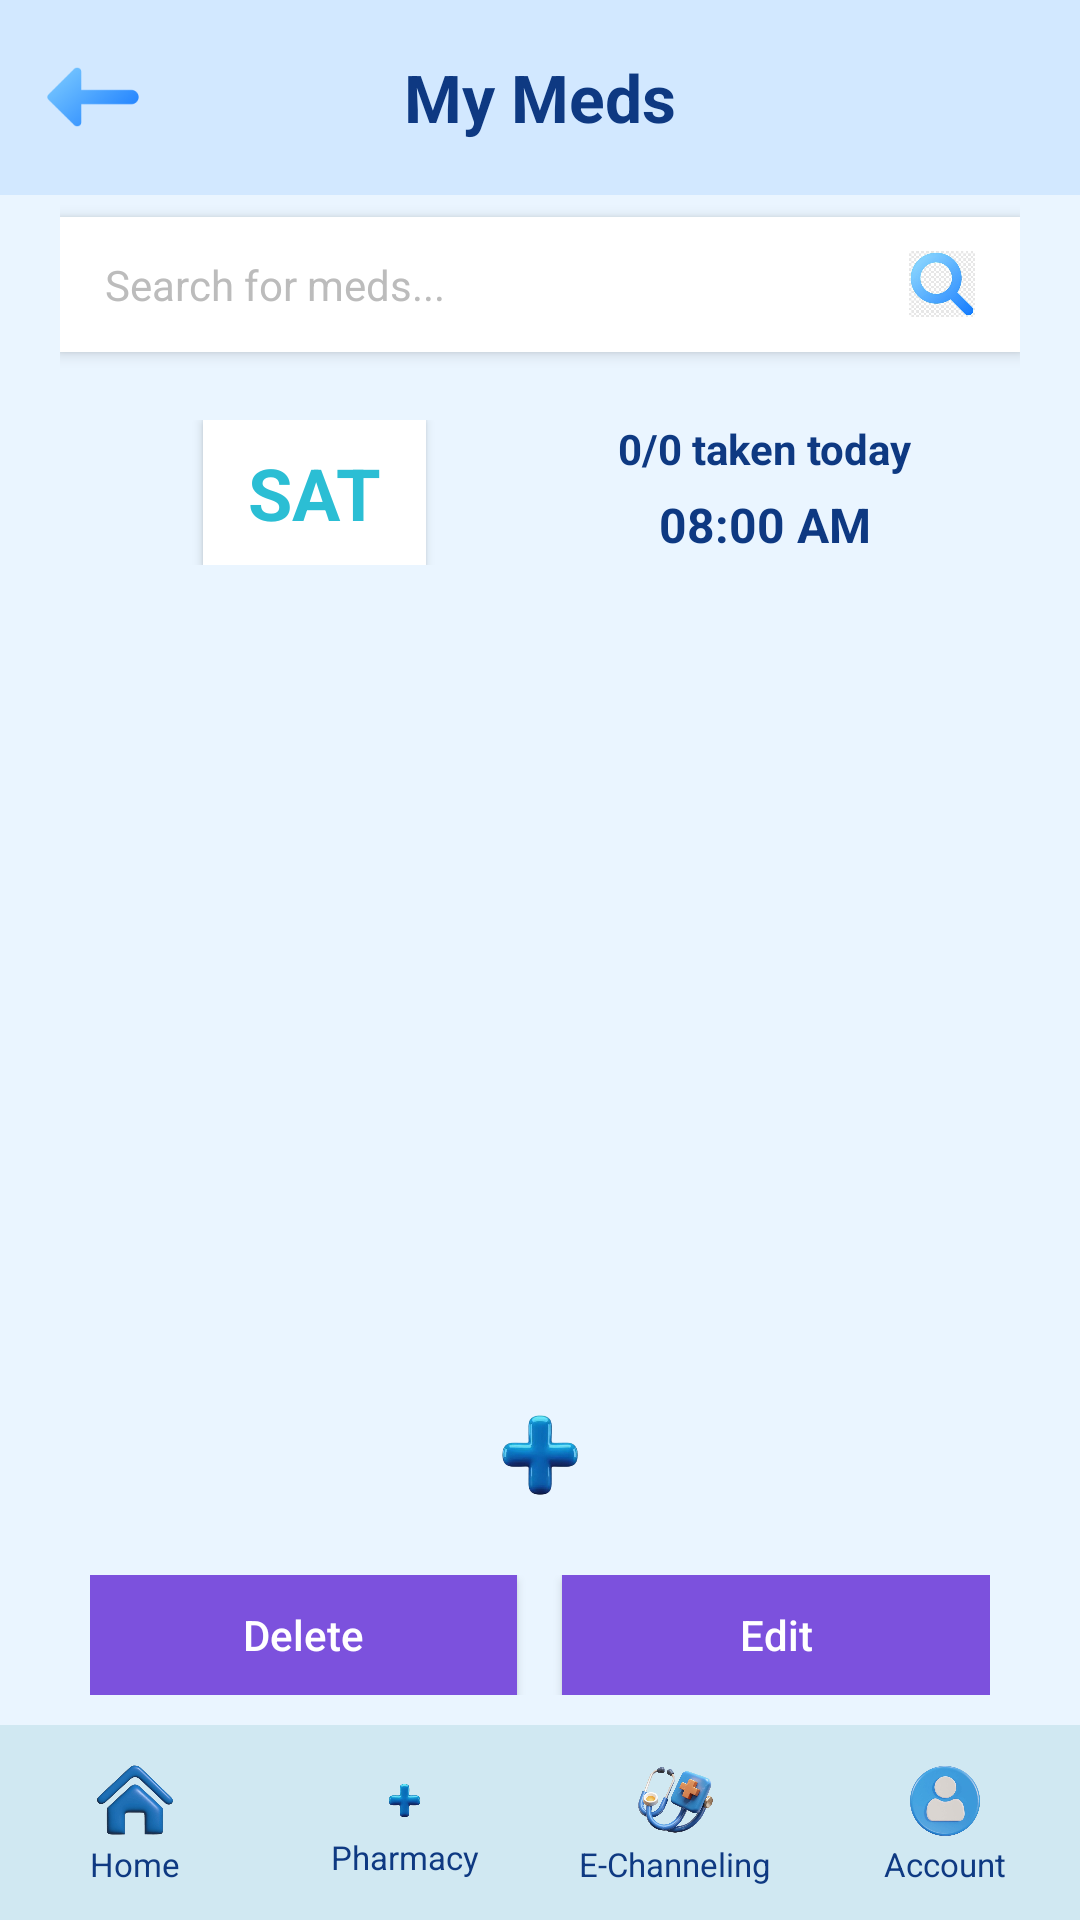

Screen size 1080*1920. Icon name, then its box in pixels as BBox(x1, y1, x2, y2):
arrow: BBox(47, 68, 139, 127)
